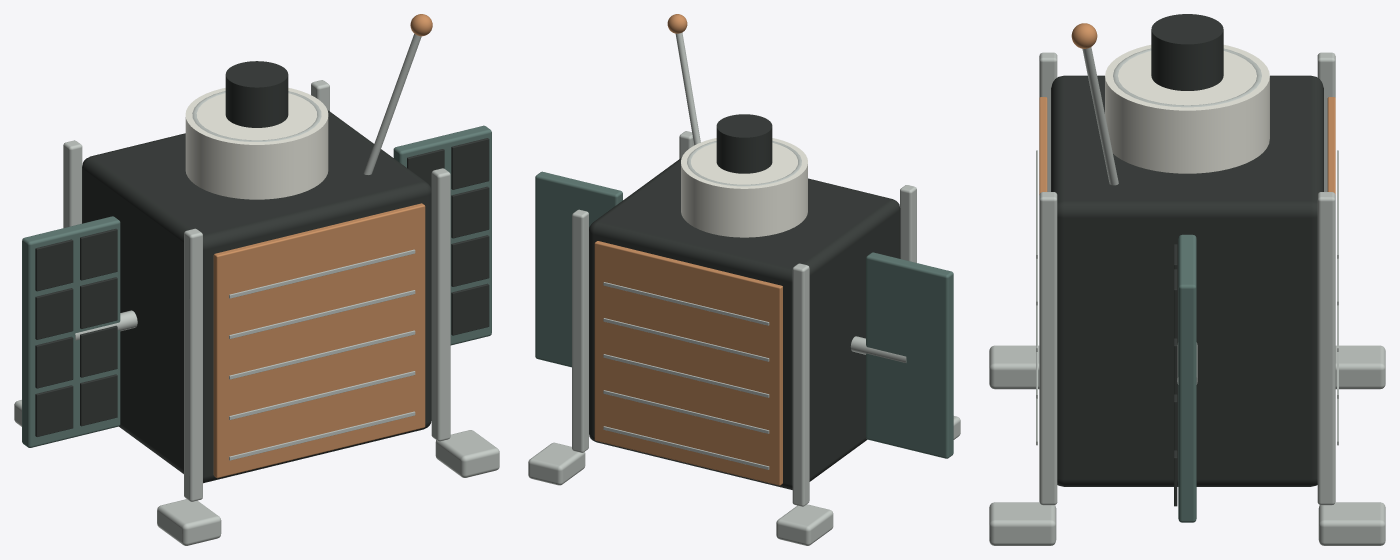
Rendered from spacecraft-thermal-test-chamber-small-satellite-test-a-b0590f19__32033.glb.
3 renders of one model, left to right at view 1: azimuth 30°, elevation 25°; view 2: azimuth 150°, elevation 25°; view 3: azimuth 270°, elevation 25°, orthographic. The views are drawn at different scales.
Parts seen in each view (by area): view 1: small-satellite-test-article; view 2: small-satellite-test-article; view 3: small-satellite-test-article.
Part boxes in pixels (bbox=[...]): small-satellite-test-article: bbox=[14, 14, 499, 545]; small-satellite-test-article: bbox=[528, 14, 960, 545]; small-satellite-test-article: bbox=[989, 14, 1385, 545].
Bounding box in the file's own units: 1.2 × 1.08 × 0.77.
